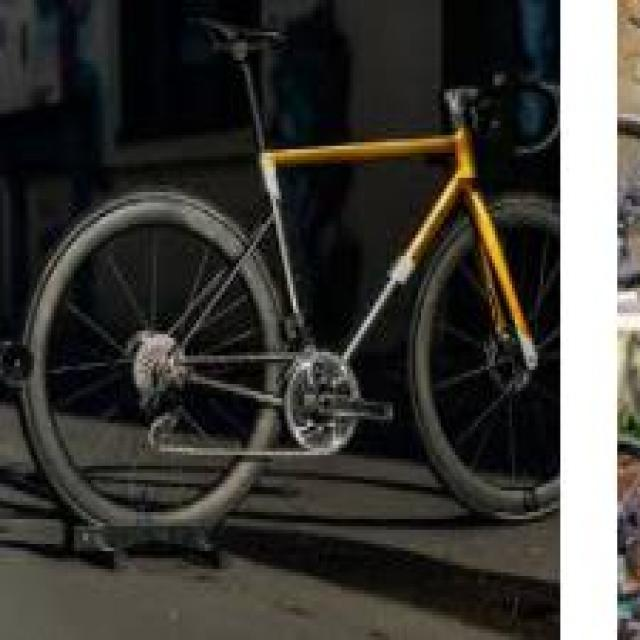bicycle: (21, 19, 573, 581)
